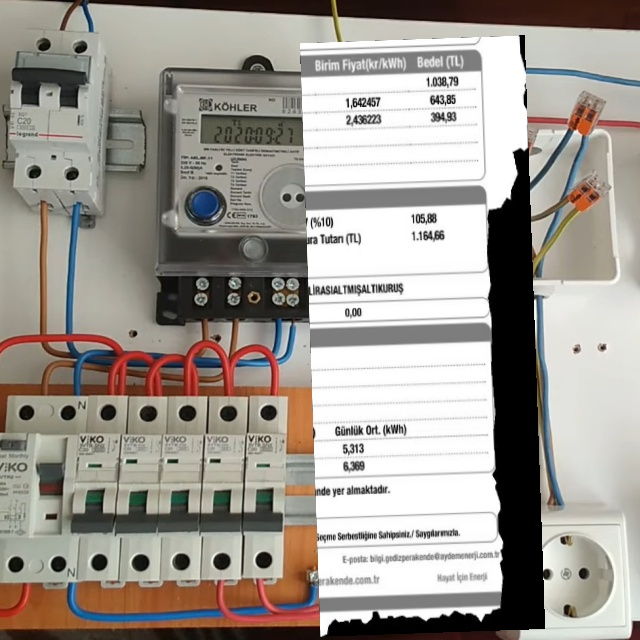electricity-bill: (300, 35, 544, 637)
